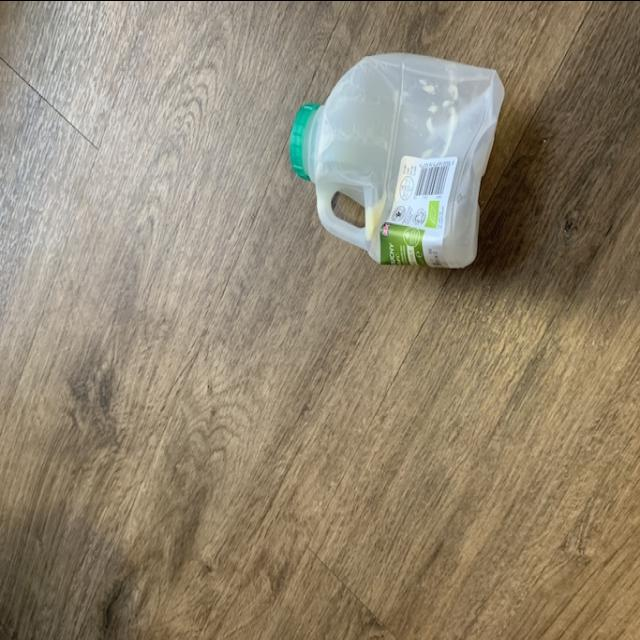HDPEM: (289, 50, 507, 269)
